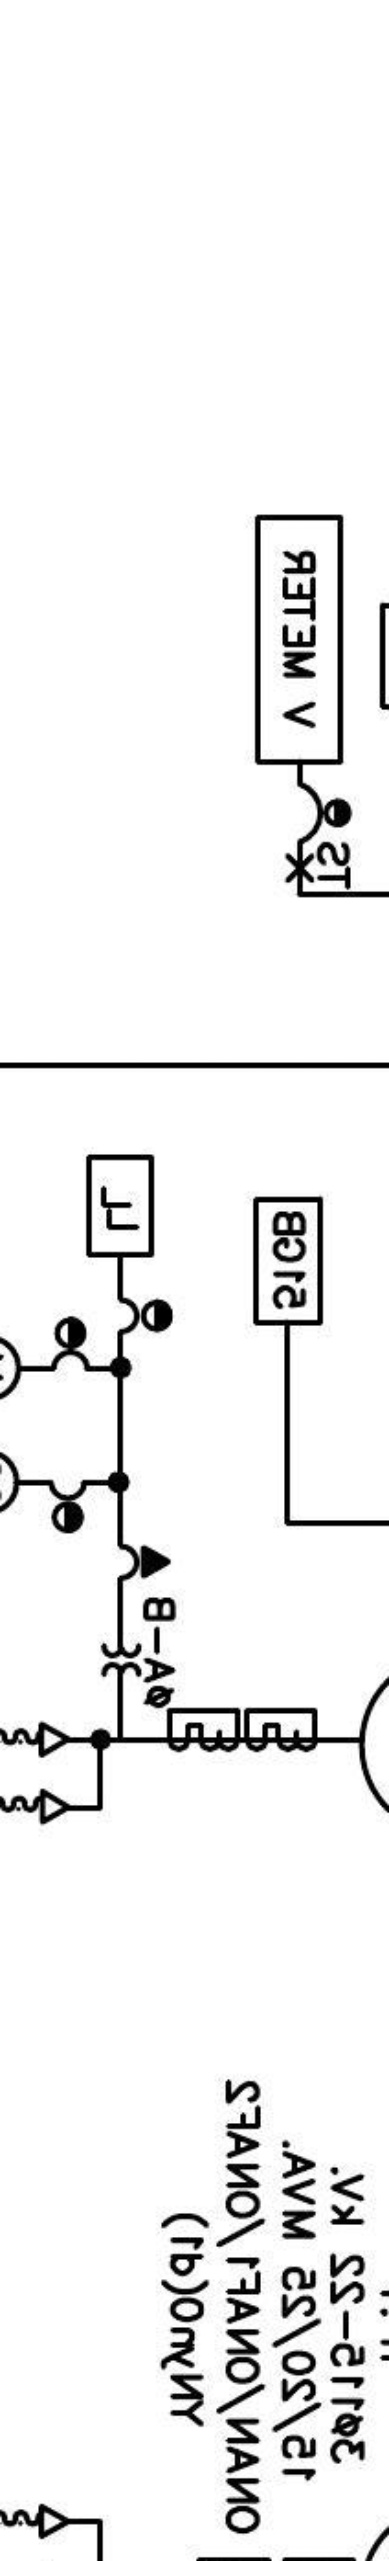LL: (86, 1153, 155, 1260)
terminator_double: (38, 1720, 104, 1826)
v_m_digital: (253, 513, 345, 767)
